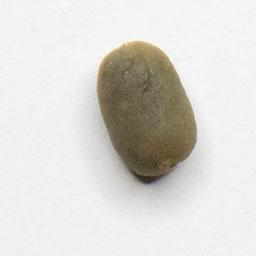peaberry: (92, 36, 201, 181)
